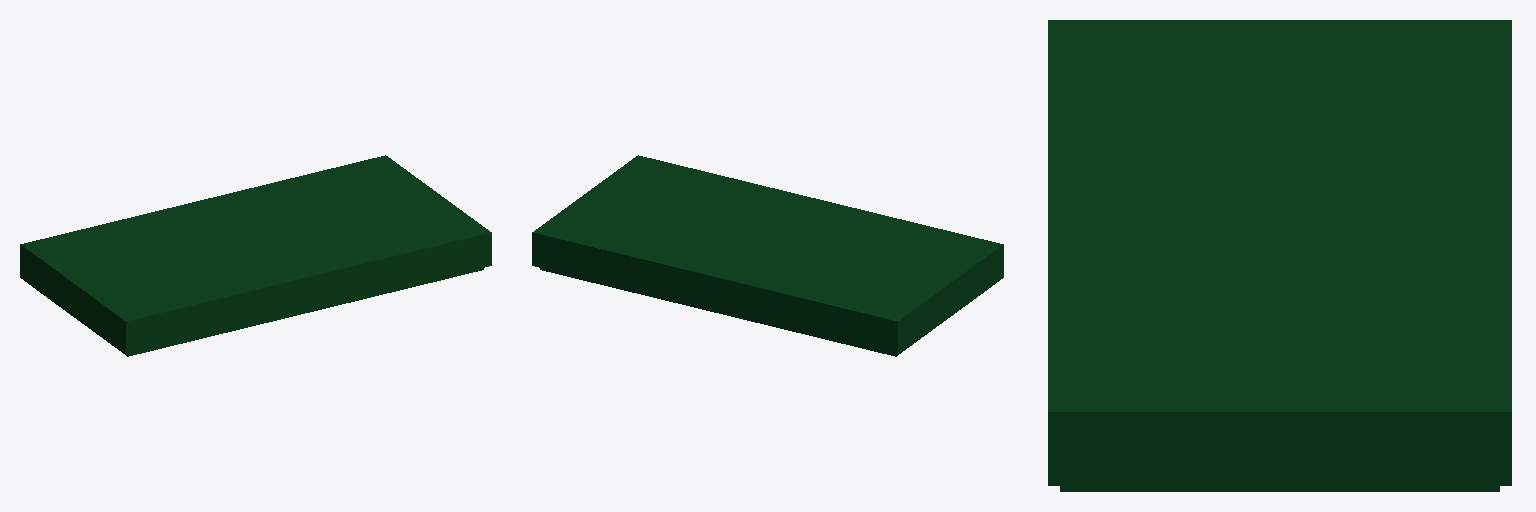
The robot description file, URDF, robot "87079__dark_green":
<?xml version="1.0"?>
<robot name="87079__dark_green">
  <link name="87079__dark_green">
    <inertial>
      <origin xyz="0.000000 0.000000 -0.001593" rpy="0 0 0"/>
      <mass value="0.001712"/>
      <inertia ixx="3.776631012e-08" ixy="-0.000000000e+00" ixz="-0.000000000e+00" iyy="1.471383780e-07" iyz="-2.284021479e-25" izz="1.820032672e-07"/>
    </inertial>
    <visual>
      <geometry>
        <mesh filename="../meshes/visual/87079.obj" scale="1 1 1"/>
      </geometry>
      <material name="87079__dark_green_color">
        <color rgba="0.080 0.290 0.150 1.000"/>
      </material>
    </visual>
    <collision>
      <geometry>
        <mesh filename="../meshes/collision/87079_hull.obj" scale="1 1 1"/>
      </geometry>
    </collision>
  </link>
</robot>

--- Render facts (derived) ---
The picture shows the robot from 3 angles, left to right: view 1: azimuth 30°, elevation 25°; view 2: azimuth 150°, elevation 25°; view 3: azimuth 270°, elevation 25°; orthographic projection.
Model 87079__dark_green with 1 links and 0 joints (none), rooted at 87079__dark_green, posed every joint at zero.
Visible links, largest first — view 1: 87079__dark_green; view 2: 87079__dark_green; view 3: 87079__dark_green.
Boxes of the visible links, x1=… form: 87079__dark_green: x1=20, y1=155, x2=491, y2=356; 87079__dark_green: x1=532, y1=155, x2=1003, y2=356; 87079__dark_green: x1=1048, y1=20, x2=1511, y2=491.
Bounding box of the posed robot: 0.032 × 0.016 × 0.0032 m (x, y, z).
1 mesh visuals loaded from 1 distinct referenced files (1 OBJ).
